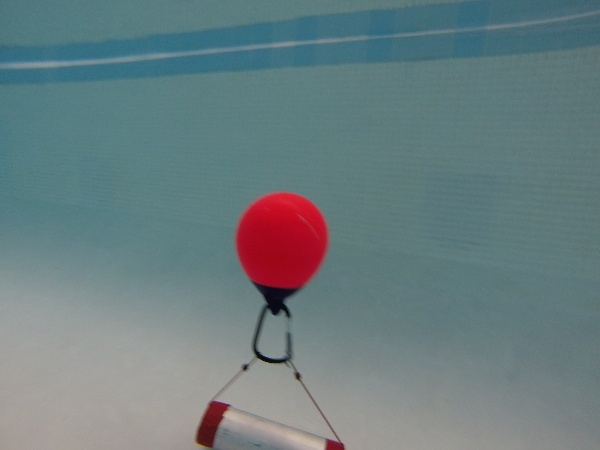buoy_red: (231, 192, 331, 317)
